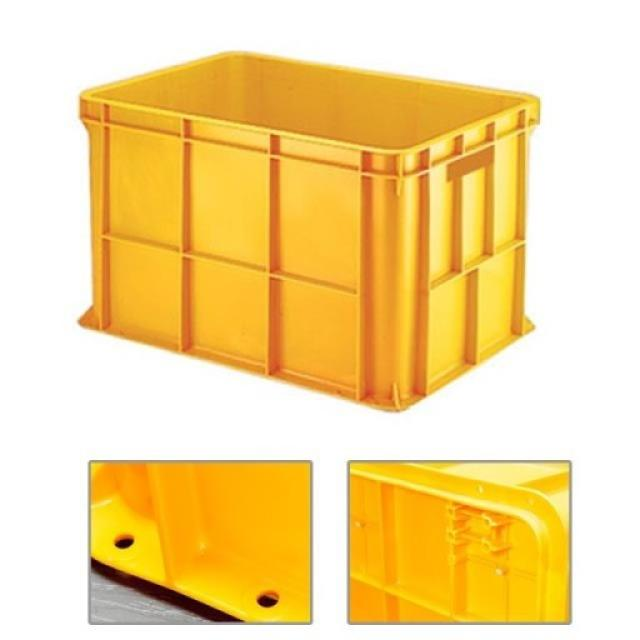basket: (39, 28, 569, 431)
